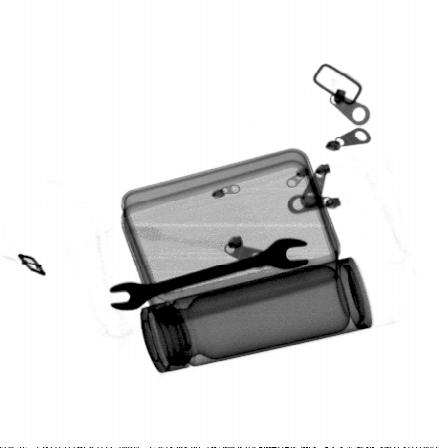Wrench: (106, 236, 312, 313)
